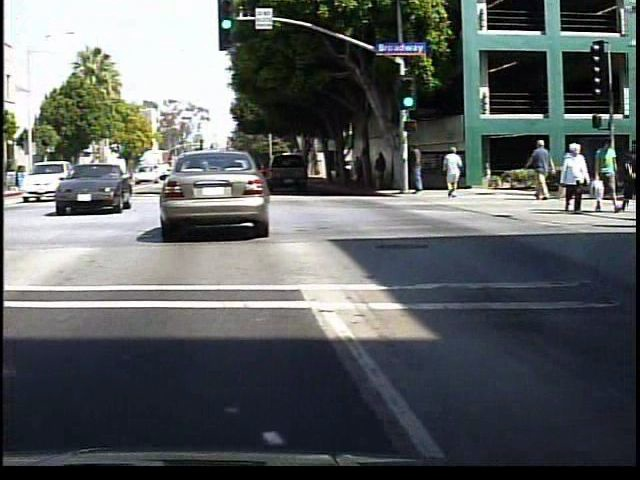person: (563, 141, 595, 214), (595, 138, 623, 216), (530, 139, 561, 202), (444, 143, 468, 201), (410, 140, 430, 200), (377, 149, 395, 192), (357, 153, 371, 189)
